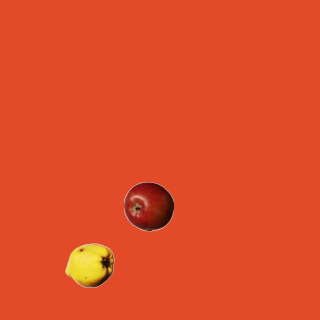Apple Braeburn: (123, 181, 173, 231)
Quince: (64, 240, 114, 290)
